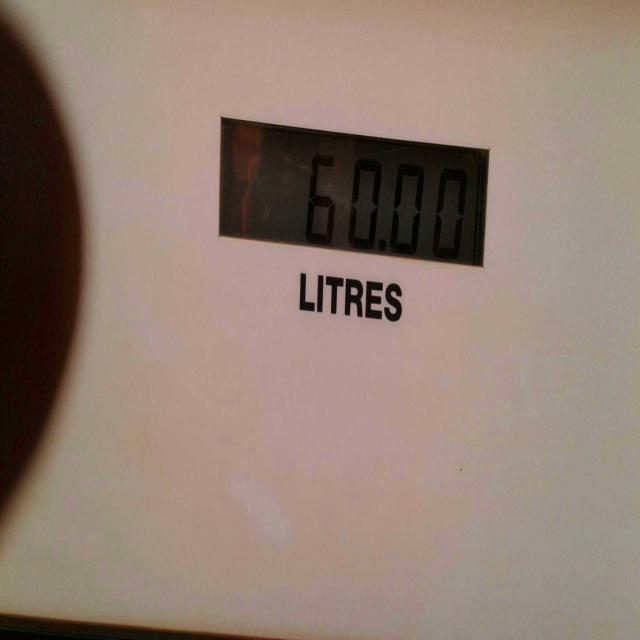.: (375, 232, 389, 264)
0: (346, 150, 384, 257), (431, 162, 469, 269), (390, 161, 426, 258)
6: (294, 146, 347, 254)
